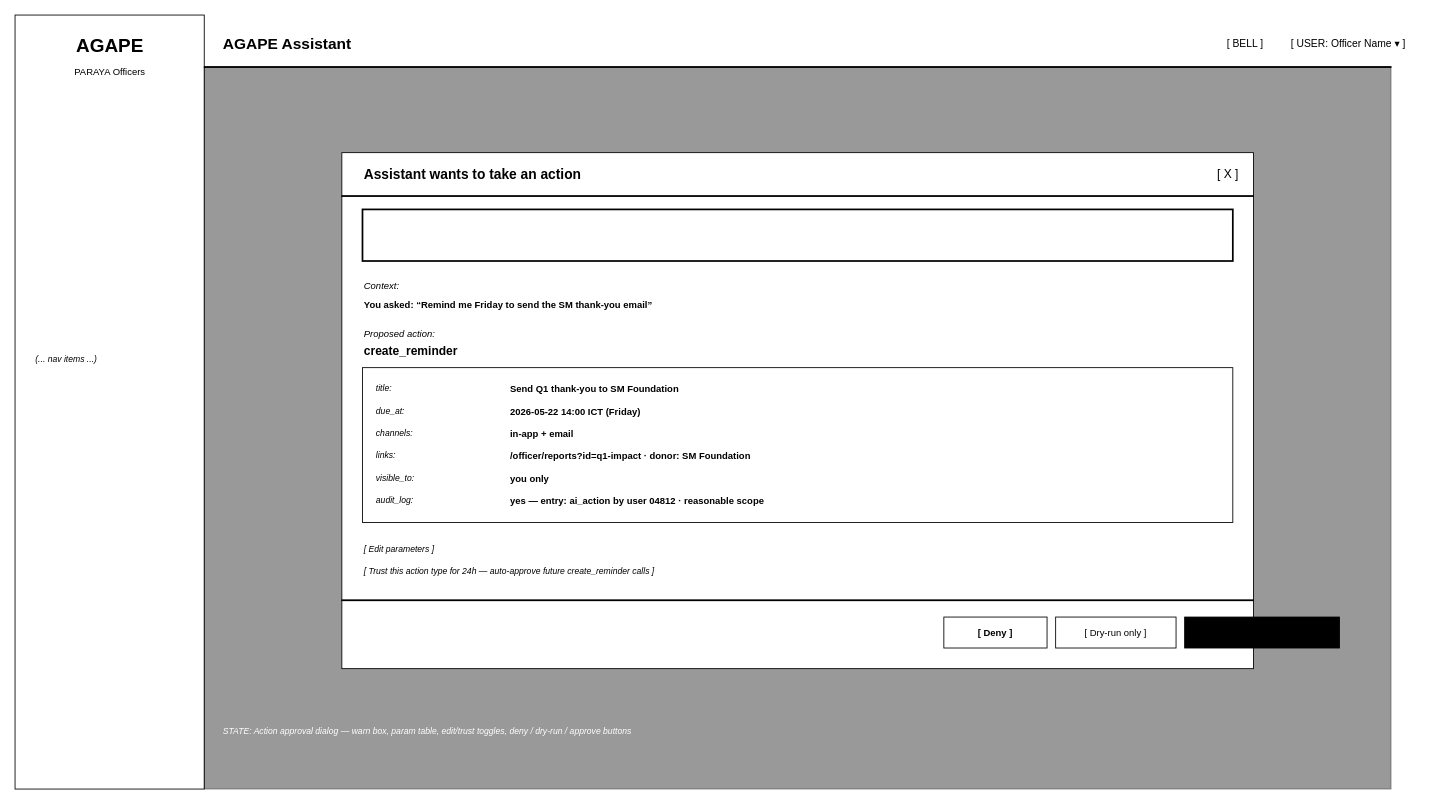
Some shapes in this 1441 by 804 pixel diagram are drawn without their labels. The centre of each missing label's shape, as x and y in pixels:
! Write action — this changes data. Review before approving.: point (797, 234)
[ xApprove & run ]: point (1261, 632)
